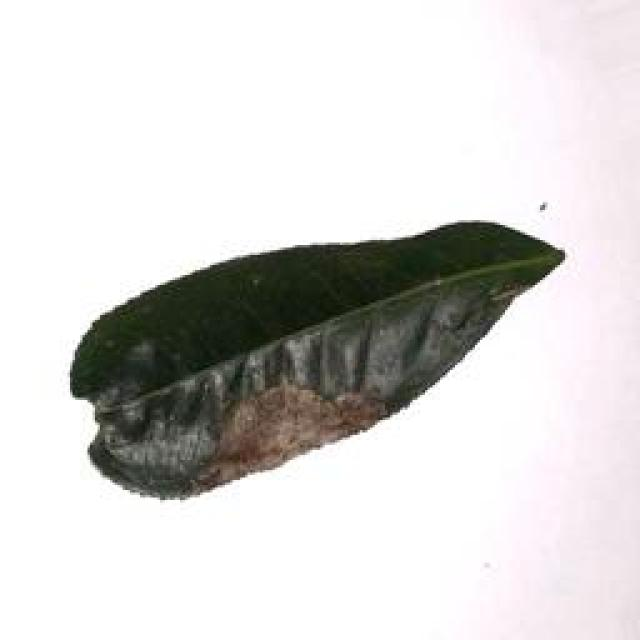Brown Blight: (68, 200, 565, 500)
